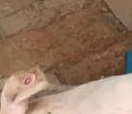text: (14, 67, 43, 92)
